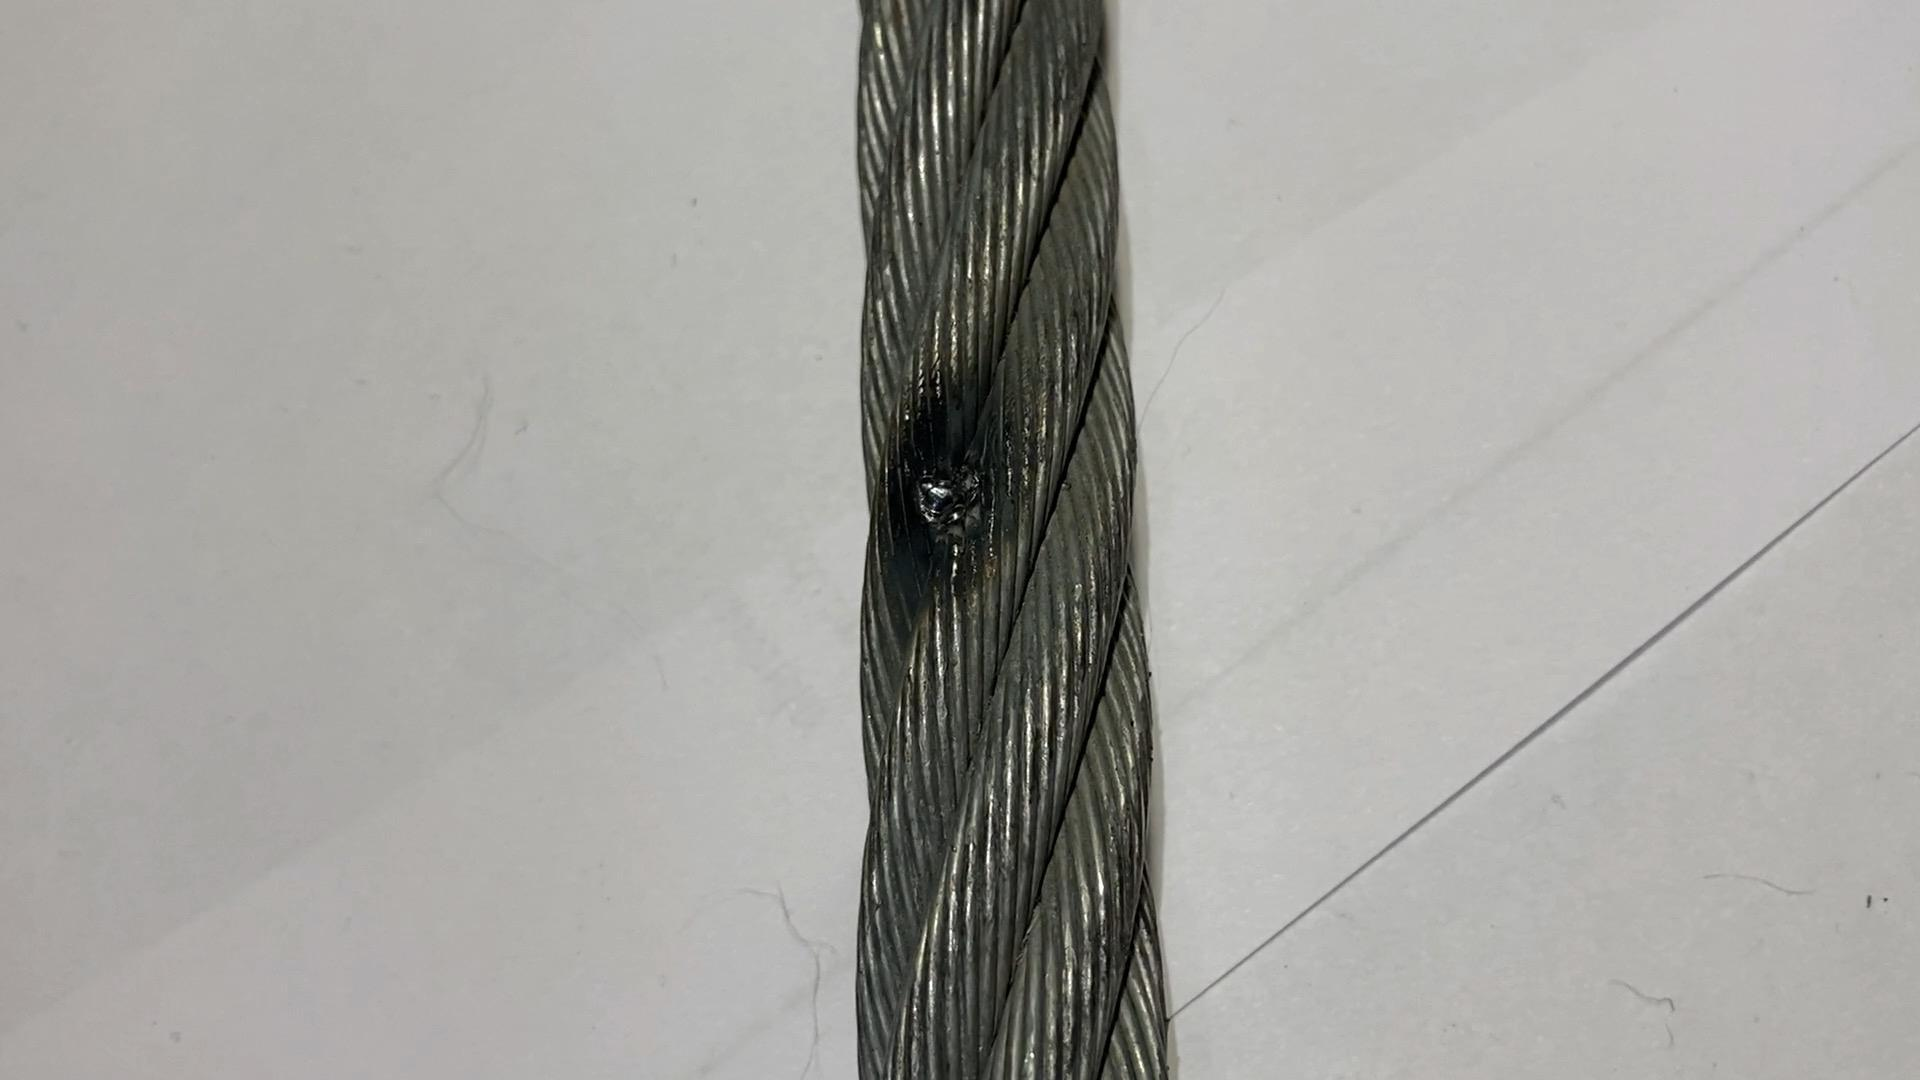thunderbolt: (878, 423, 1021, 580)
